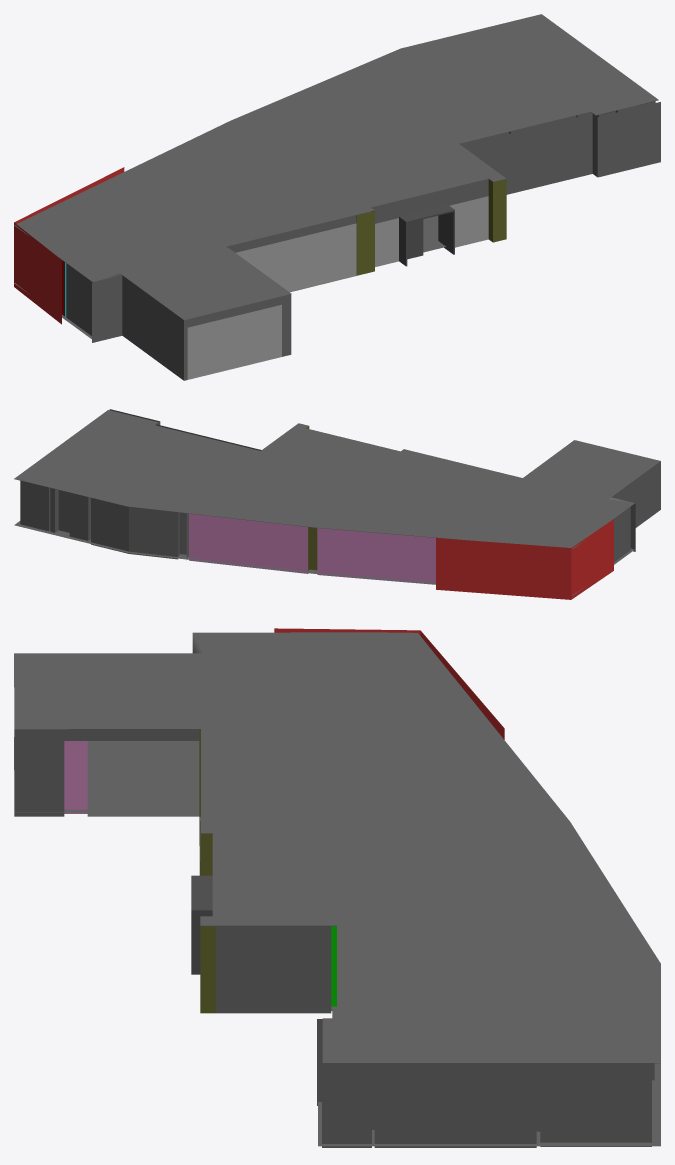
The model's file is tee.fbx.
3 renders of one model, top to bottom at view 1: azimuth 30°, elevation 25°; view 2: azimuth 150°, elevation 25°; view 3: azimuth 270°, elevation 25°, orthographic. The views are drawn at different scales.
Parts seen in each view (by area): view 1: Techo002, polySurface4, Cristales, polySurface1, ArcoPuertaMain001, Suelo002, PuertaMainHoja004; view 2: Techo002, polySurface4, polySurface1, Suelo002; view 3: Techo002, polySurface4, Cristales, Suelo002, ArcoPuertaMain001, polySurface1.
Boxes of the visible parts, <box> form: Techo002: <box>14,14,658,320</box>; polySurface4: <box>62,101,660,380</box>; Cristales: <box>187,196,488,379</box>; polySurface1: <box>14,167,124,324</box>; ArcoPuertaMain001: <box>399,204,454,266</box>; Suelo002: <box>14,215,490,377</box>; PuertaMainHoja004: <box>407,219,423,259</box>; Techo002: <box>14,410,660,549</box>; polySurface4: <box>20,409,660,584</box>; polySurface1: <box>436,519,613,599</box>; Suelo002: <box>14,521,634,595</box>; Techo002: <box>14,632,660,1063</box>; polySurface4: <box>14,729,654,1147</box>; Cristales: <box>87,741,199,816</box>; Suelo002: <box>14,737,660,1146</box>; ArcoPuertaMain001: <box>191,875,212,974</box>; polySurface1: <box>274,628,504,739</box>.
Bounding box in the file's own units: 13.16 × 1.32 × 8.33.
